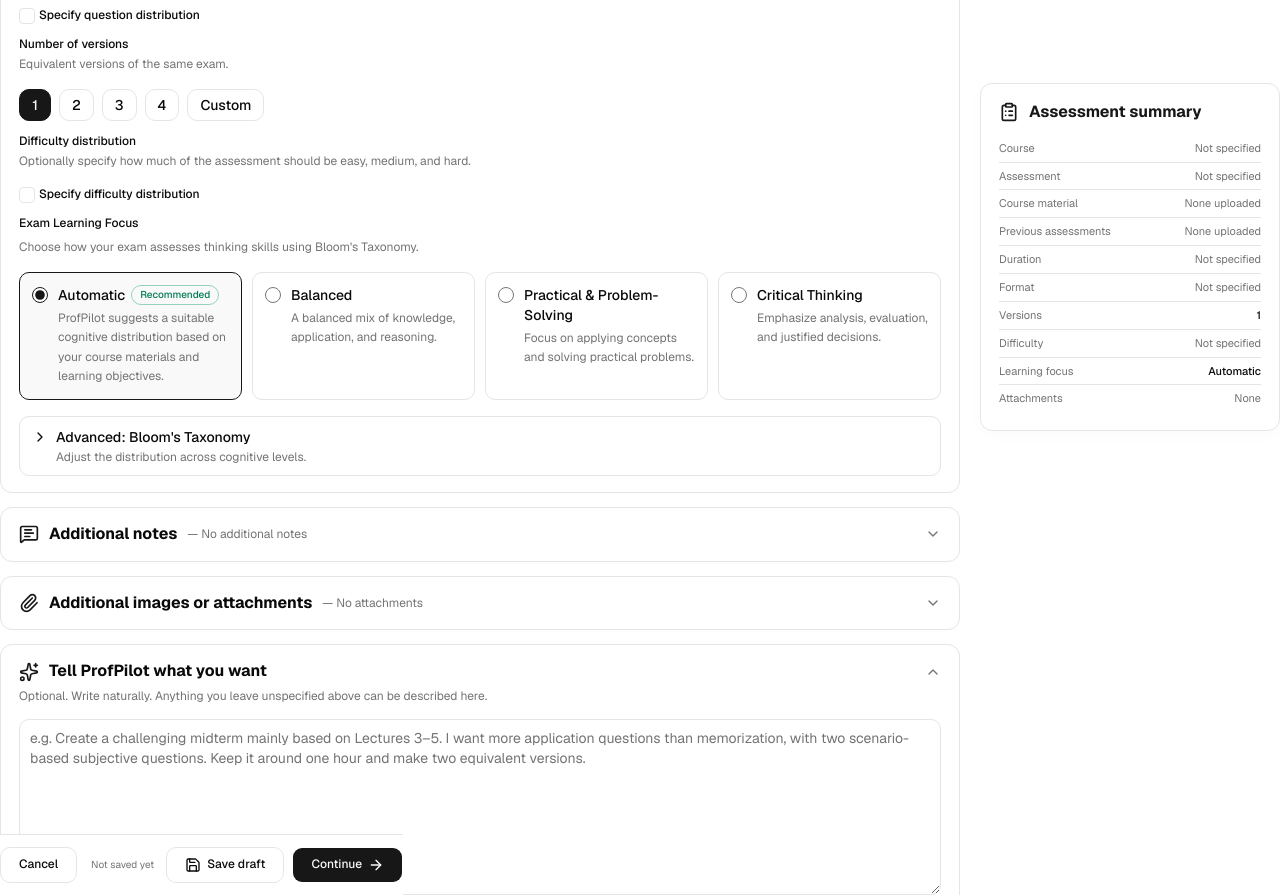
Test: a new assessment starts on Automatic, with the advanced panel collapsed
(page scrolled)
Expected: the element "Exam Learning Focus" is shown, [19,215,941,476]
Expected: the radio button labelled "Automatic" is checked, [32,287,48,303]
Automatic before any plan: an honest pending state, not a made-up split.
Step 1. Click the button "Advanced: Bloom's Taxonomy" → [169, 446], box [32,427,306,465]
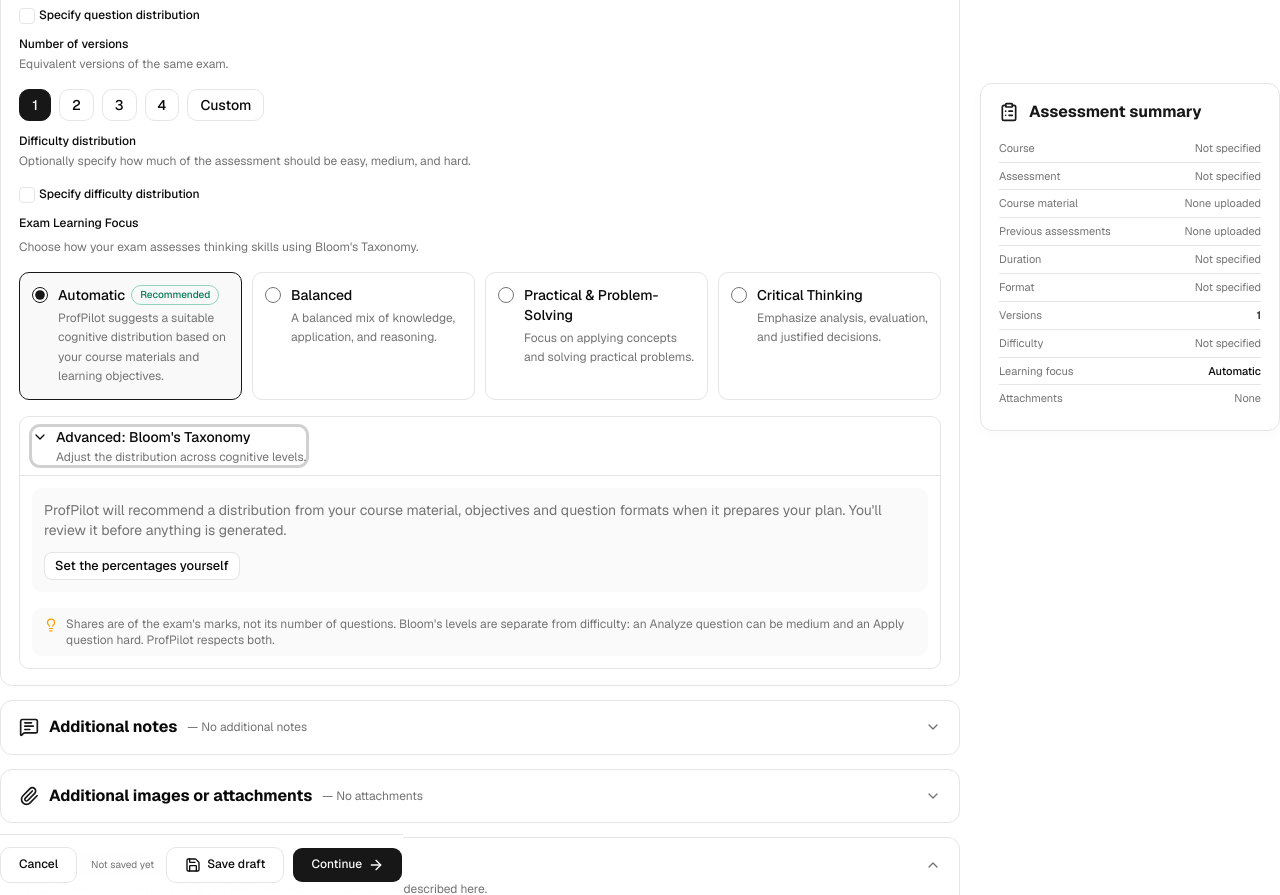
Expected: the text "will recommend a distribution" is shown, [44,501,882,539]
